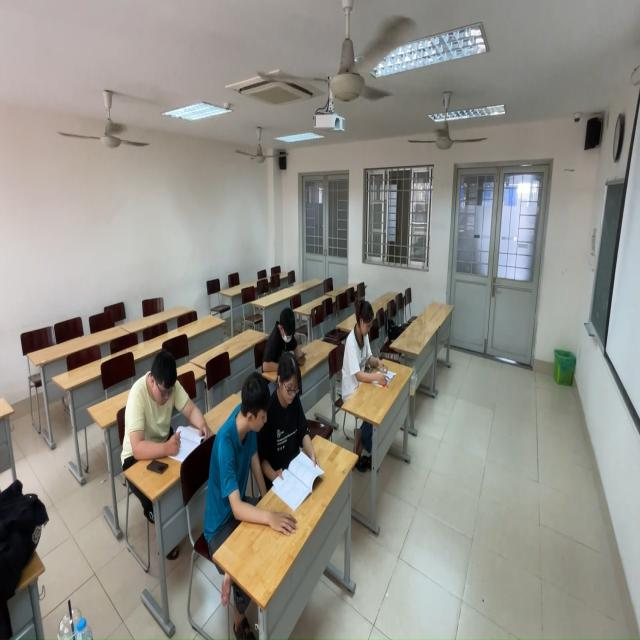read: (203, 365, 273, 542), (122, 352, 215, 470), (264, 349, 322, 504), (341, 300, 393, 408), (262, 302, 313, 371)
